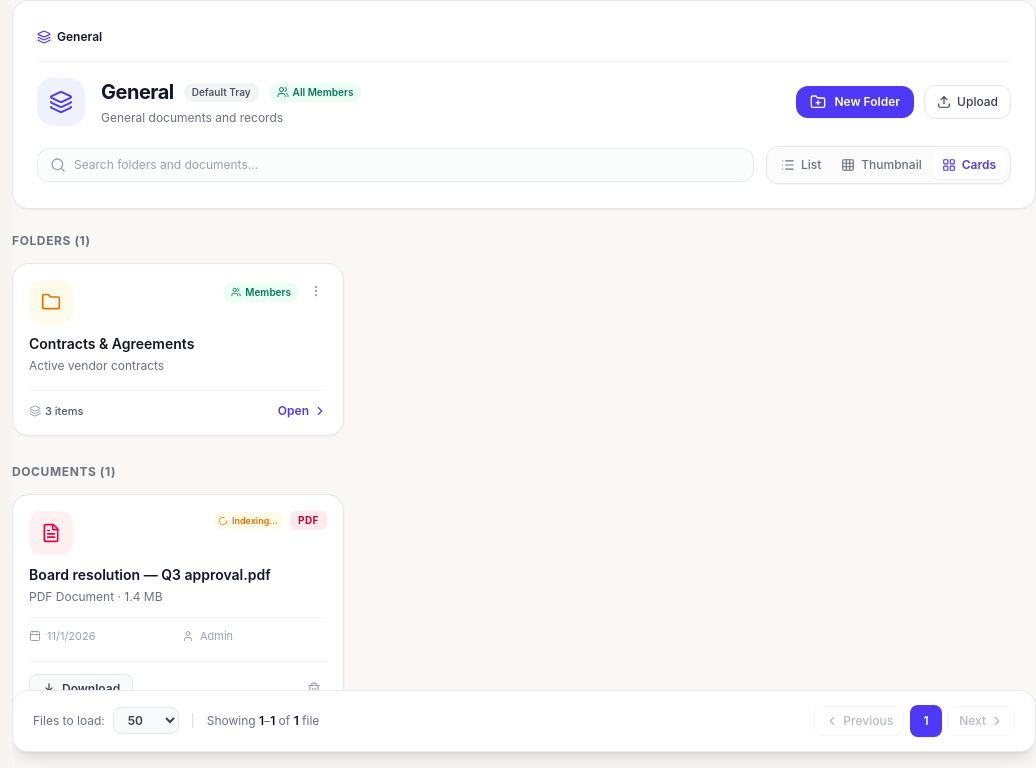
it: FolderBrowser - View Mode Switcher (List, Thumbnail, Cards) › renders pagination footer with 50-200 files to load options when files are displayed
The width and height of the screenshot is (1036, 768).
Check: the text "Board resolution — Q3 approval.pdf" is shown, box [29,566,271,583]
Check: the text "Files to load:" is shown, box [33,713,105,729]
# Changing files to load updates value
Select "100" in the dropdown named "how many files to load" at (146, 721), box [113,708,179,734]
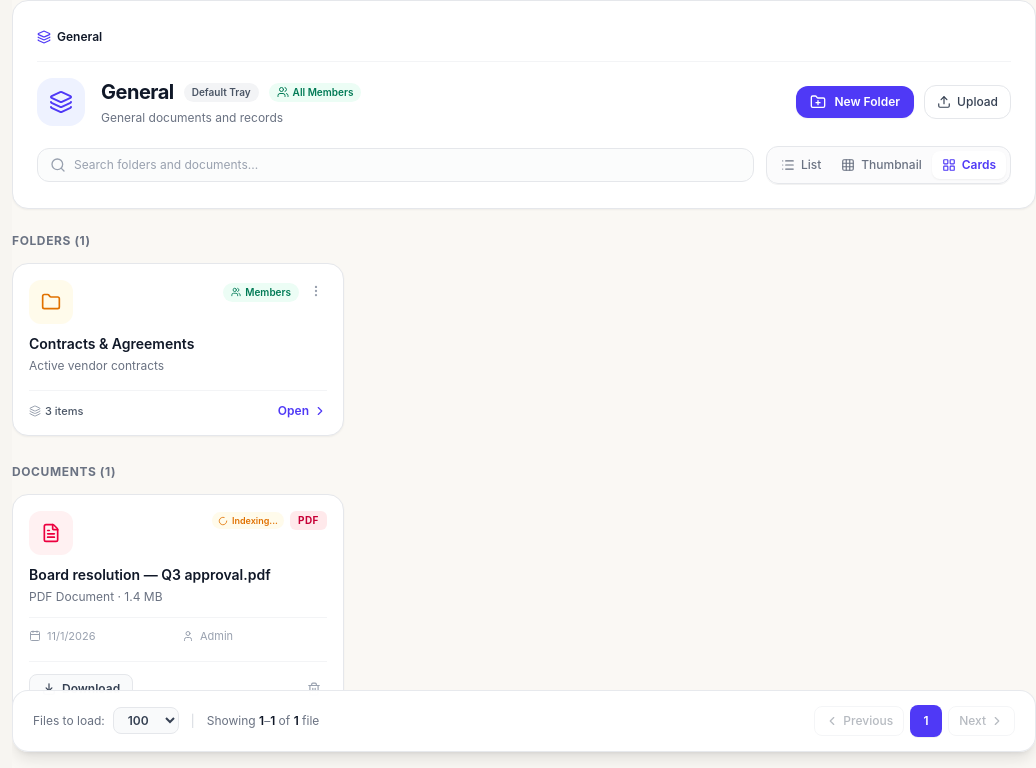
Check: the dropdown named "how many files to load" shows "100", box [113,708,179,734]
